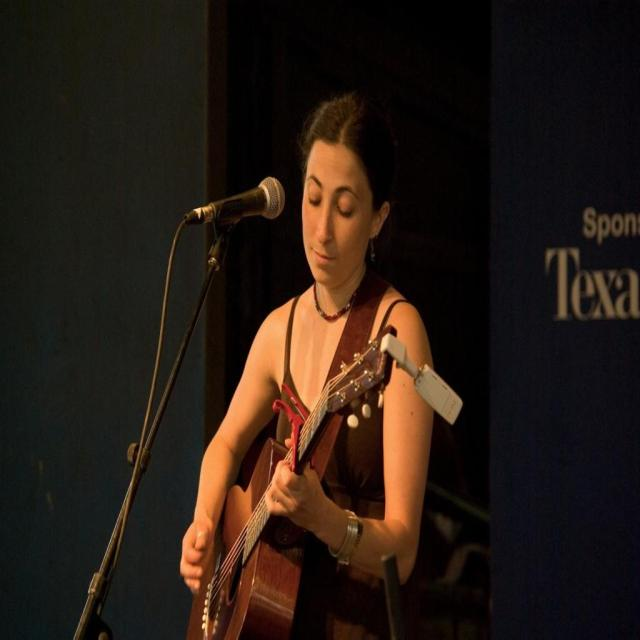Face: (295, 136, 378, 289)
